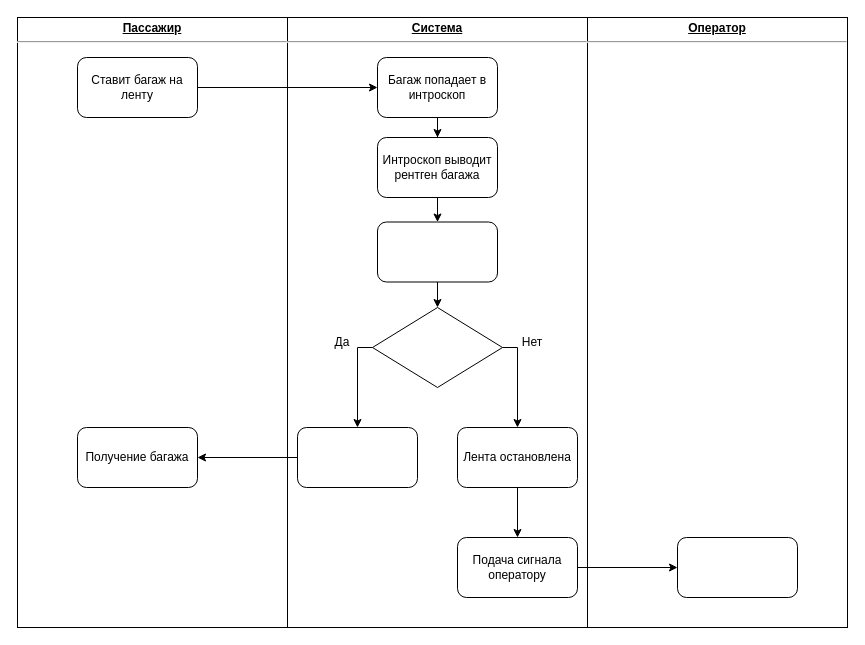
Some shapes in this 865 by 645 pixel diagram are drawn without their labels. The shapes that lost their labels are listed below. From the top down, each one's centre as x and y in pixels, then its label:
At (437,251): "Нейронная сеть распознает данные".
At (437,347): "Обнаружение запрещенного предмета".
At (357,457): "Багаж проезжает дальше".
At (737,567): "Просьба пройти на дополнительную проверку".
